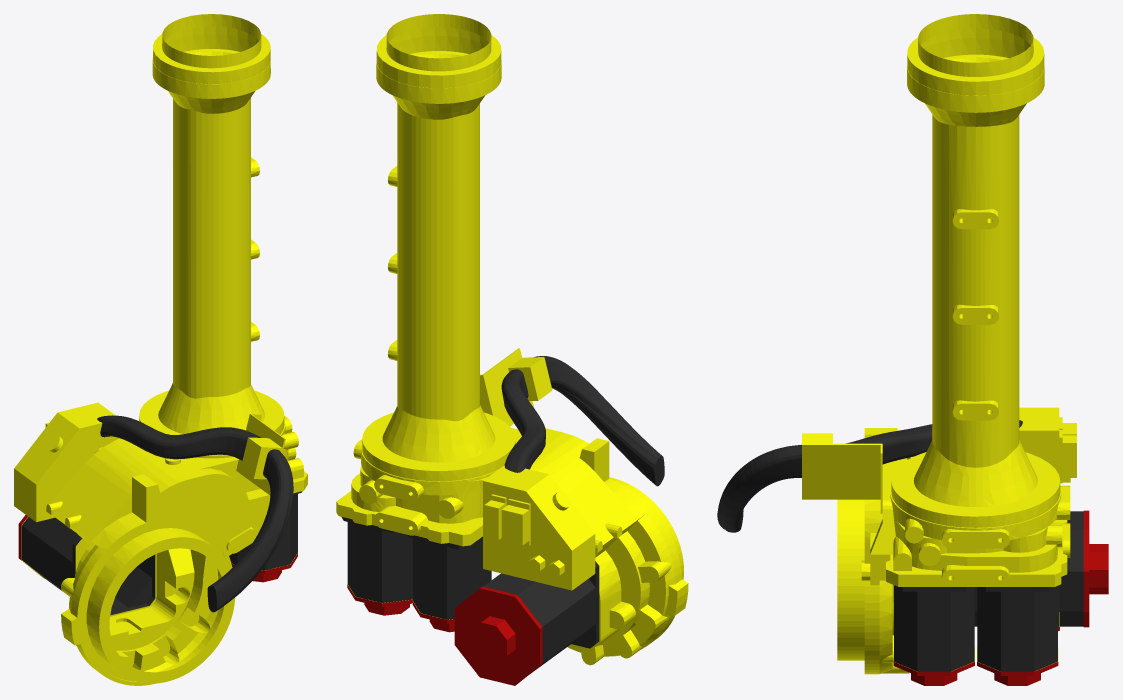
The picture shows the model from 3 angles, left to right: view 1: azimuth 30°, elevation 25°; view 2: azimuth 150°, elevation 25°; view 3: azimuth 270°, elevation 25°; orthographic projection. The views are drawn at different scales.
Visible parts, largest first — view 1: node; view 2: node; view 3: node.
Boxes of the visible parts, bbox=[...] form: node: bbox=[14, 14, 307, 685]; node: bbox=[336, 14, 688, 685]; node: bbox=[717, 14, 1108, 685].
Size of the model in its own units: 550 by 1218 by 630.
